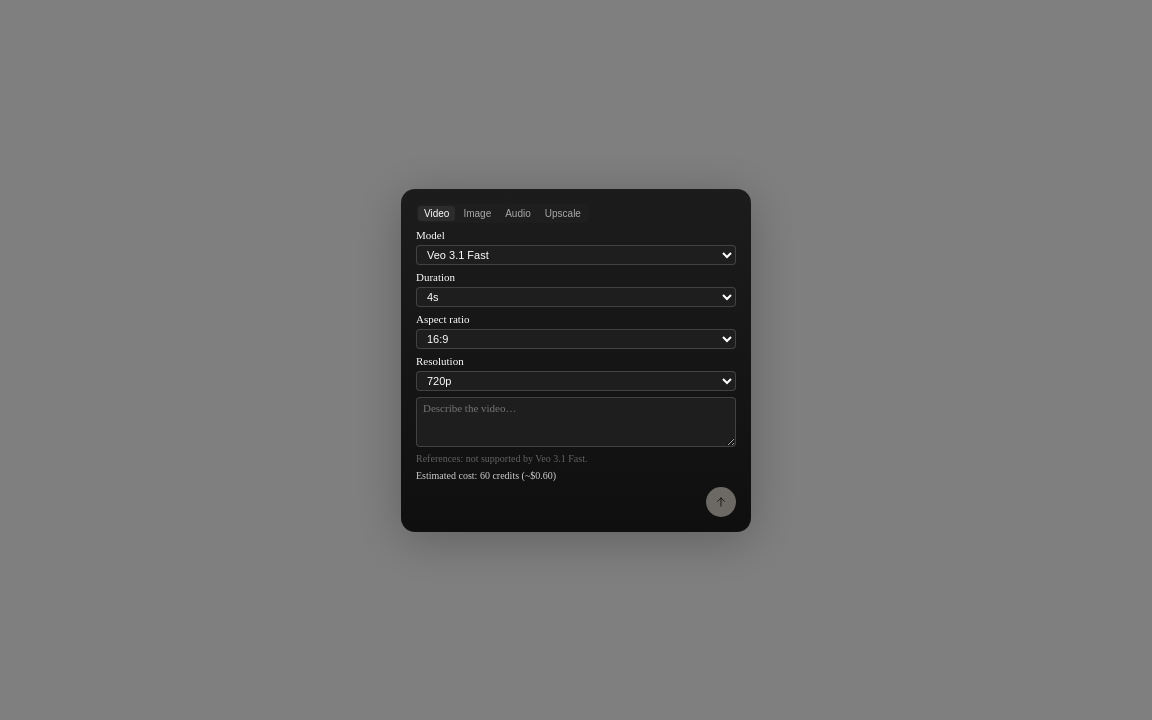
numImages input clamps out-of-range and cleared values (no invalid submit possible)
Click the button with test id "gen-kind-tab-image".
click(477, 213)  # box x1=457 y1=206 x2=497 y2=220
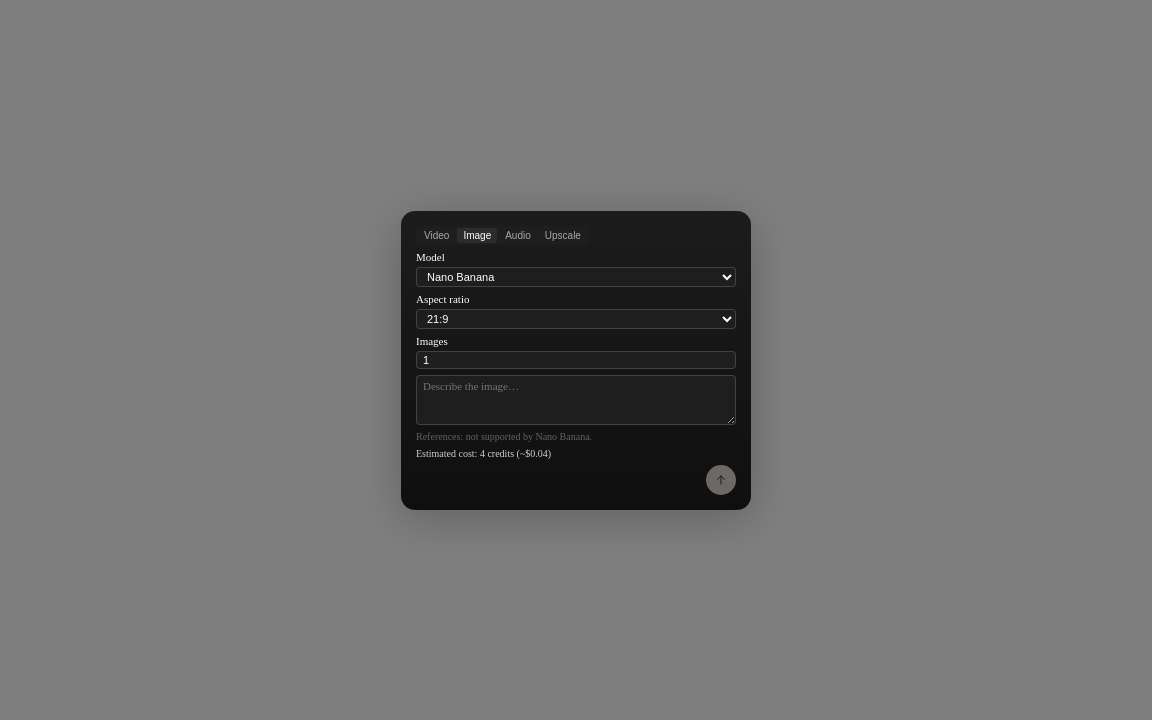
Now the number field with test id "gen-num-images" is shown
Replace the text in the number field with test id "gen-num-images" with "5" at (576, 360), box x1=416 y1=350 x2=736 y2=368
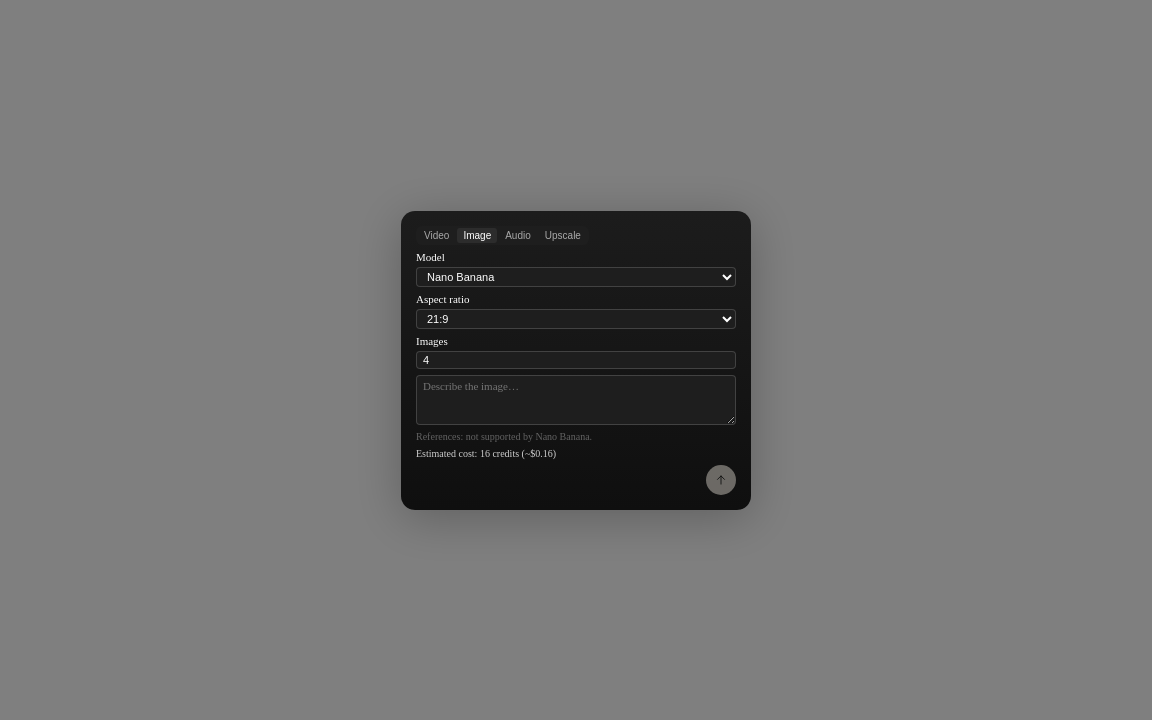
Now the number field with test id "gen-num-images" holds "4"
Clear the number field with test id "gen-num-images" at (576, 360), box x1=416 y1=350 x2=736 y2=368
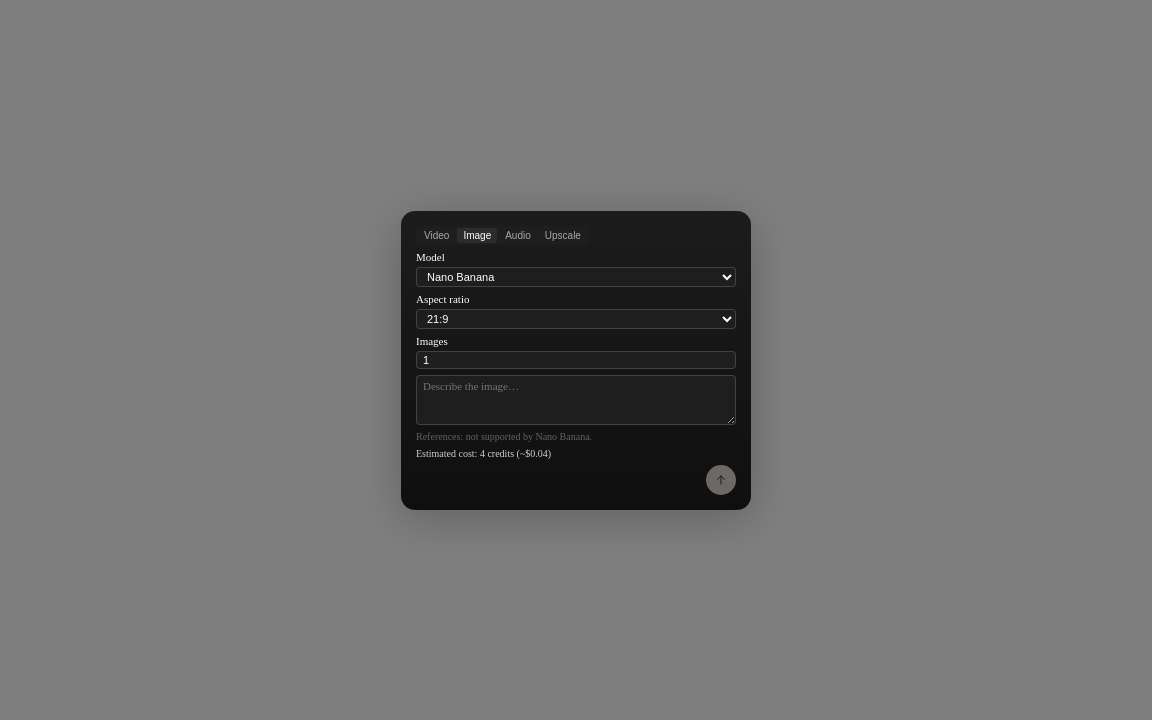
Now the number field with test id "gen-num-images" holds "1", box x1=416 y1=350 x2=736 y2=368
